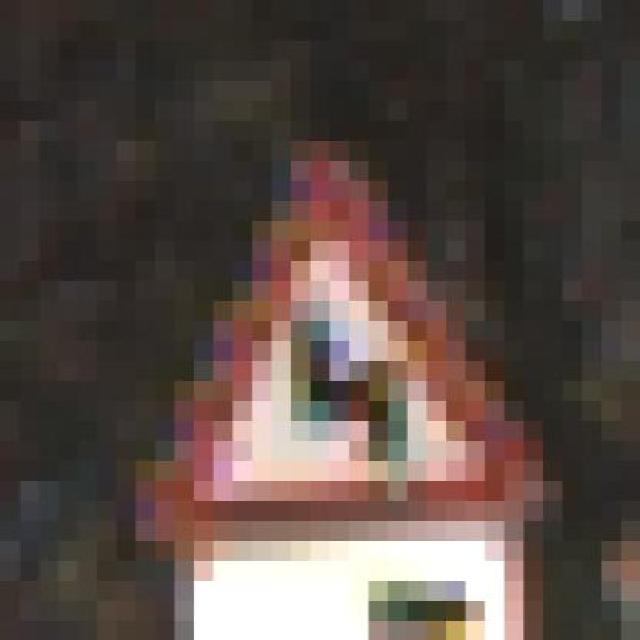Left Zig Zag Traffic: (97, 120, 581, 560)
